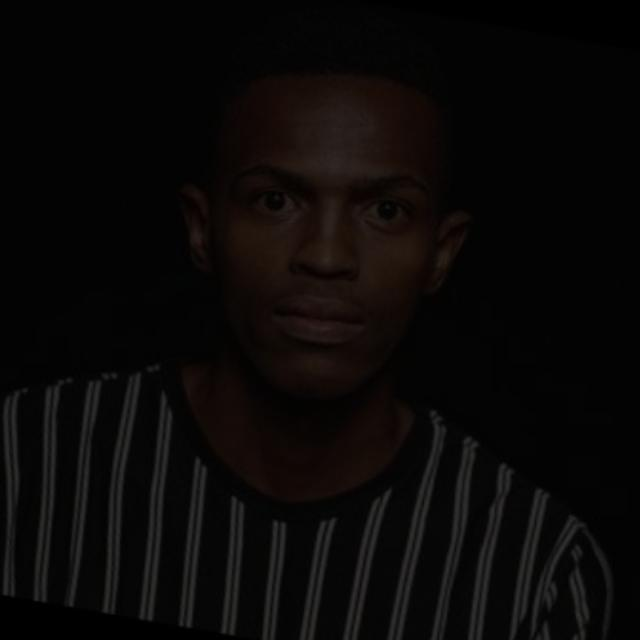Natural: (116, 102, 461, 389)
